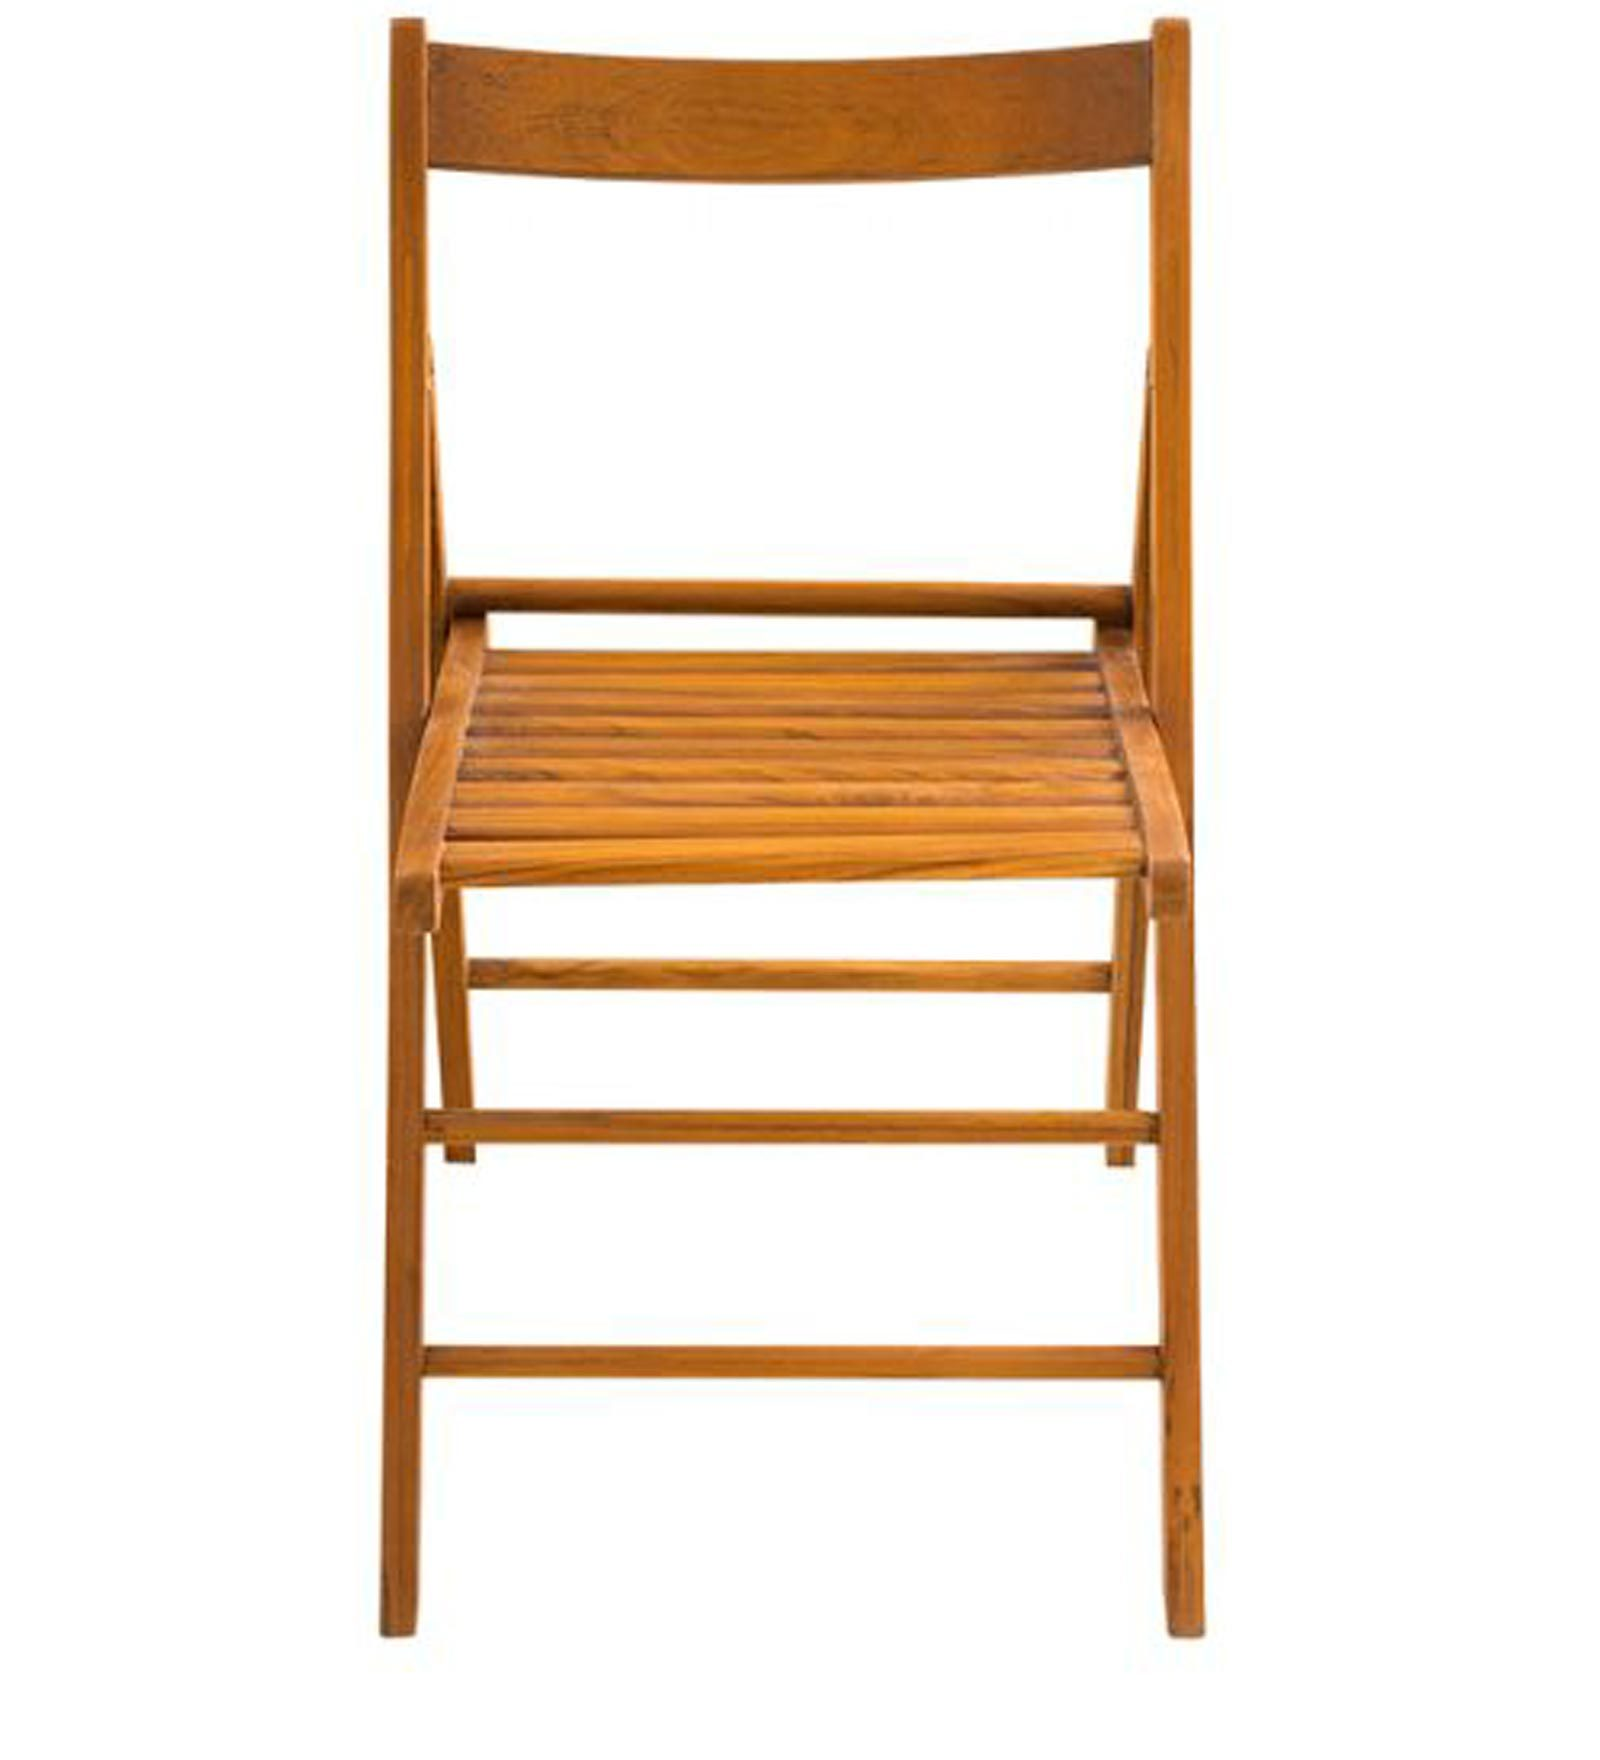Aspen Folding Chair by InLiving: (290, 9, 1270, 1682)
